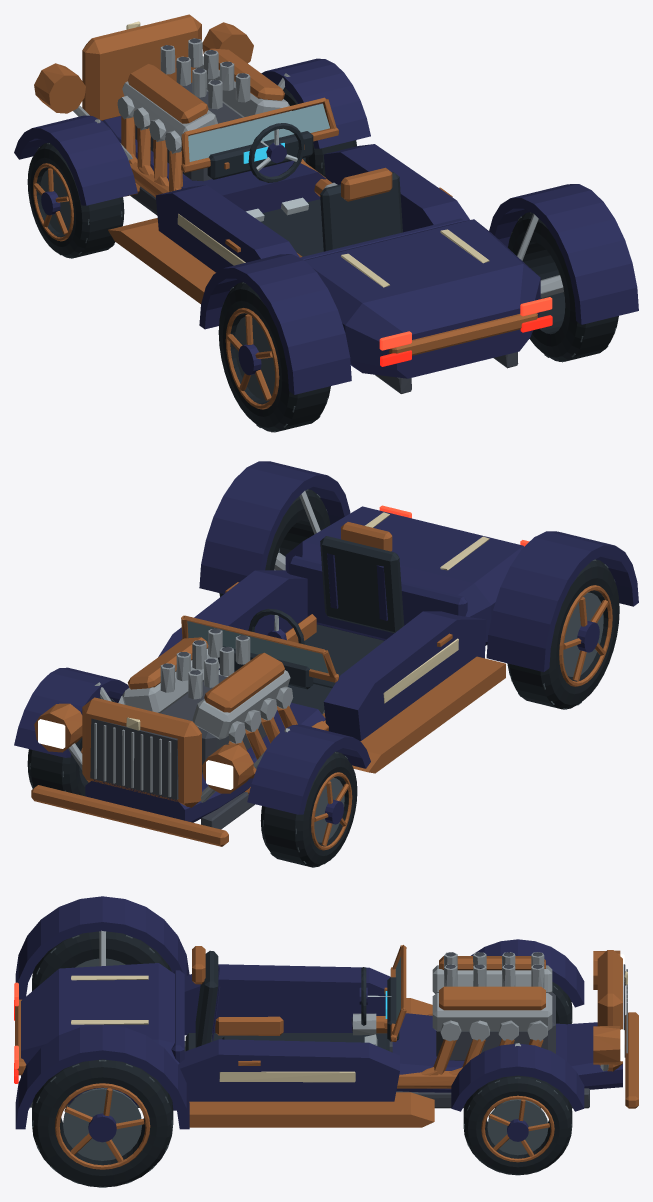
The model's file is comet_lod0.glb.
3 views of the same model, one above another, from view 1: azimuth 30°, elevation 25°; view 2: azimuth 150°, elevation 25°; view 3: azimuth 270°, elevation 25° (orthographic). The views are drawn at different scales.
Parts seen in each view (by area): view 1: body_mesh, wheel_rl, wheel_fl, wheel_rr, steering_wheel, light_tail_mesh, wheel_fr, light_brake_mesh; view 2: body_mesh, wheel_rl, wheel_fl, wheel_rr, wheel_fr, light_head_mesh, steering_wheel; view 3: body_mesh, wheel_rr, wheel_fr, wheel_rl, wheel_fl.
Part boxes in pixels (x1=…): body_mesh: x1=14, y1=14, x2=638, y2=394; wheel_rl: x1=218, y1=282, x2=330, y2=432; wheel_fl: x1=27, y1=142, x2=124, y2=258; wheel_rr: x1=508, y1=212, x2=618, y2=362; steering_wheel: x1=248, y1=123, x2=304, y2=182; light_tail_mesh: x1=379, y1=297, x2=552, y2=350; wheel_fr: x1=283, y1=88, x2=356, y2=176; light_brake_mesh: x1=380, y1=315, x2=552, y2=366; body_mesh: x1=14, y1=461, x2=638, y2=846; wheel_rl: x1=507, y1=559, x2=619, y2=709; wheel_fl: x1=260, y1=751, x2=357, y2=867; wheel_rr: x1=219, y1=489, x2=330, y2=596; wheel_fr: x1=27, y1=697, x2=114, y2=796; light_head_mesh: x1=38, y1=719, x2=233, y2=789; steering_wheel: x1=248, y1=608, x2=304, y2=644; body_mesh: x1=15, y1=896, x2=638, y2=1129; wheel_rr: x1=32, y1=1059, x2=173, y2=1187; wheel_fr: x1=463, y1=1075, x2=572, y2=1175; wheel_rl: x1=32, y1=931, x2=171, y2=991; wheel_fl: x1=552, y1=981, x2=572, y2=1024.
Bounding box in the file's own units: 2.02 × 0.98 × 3.45.
